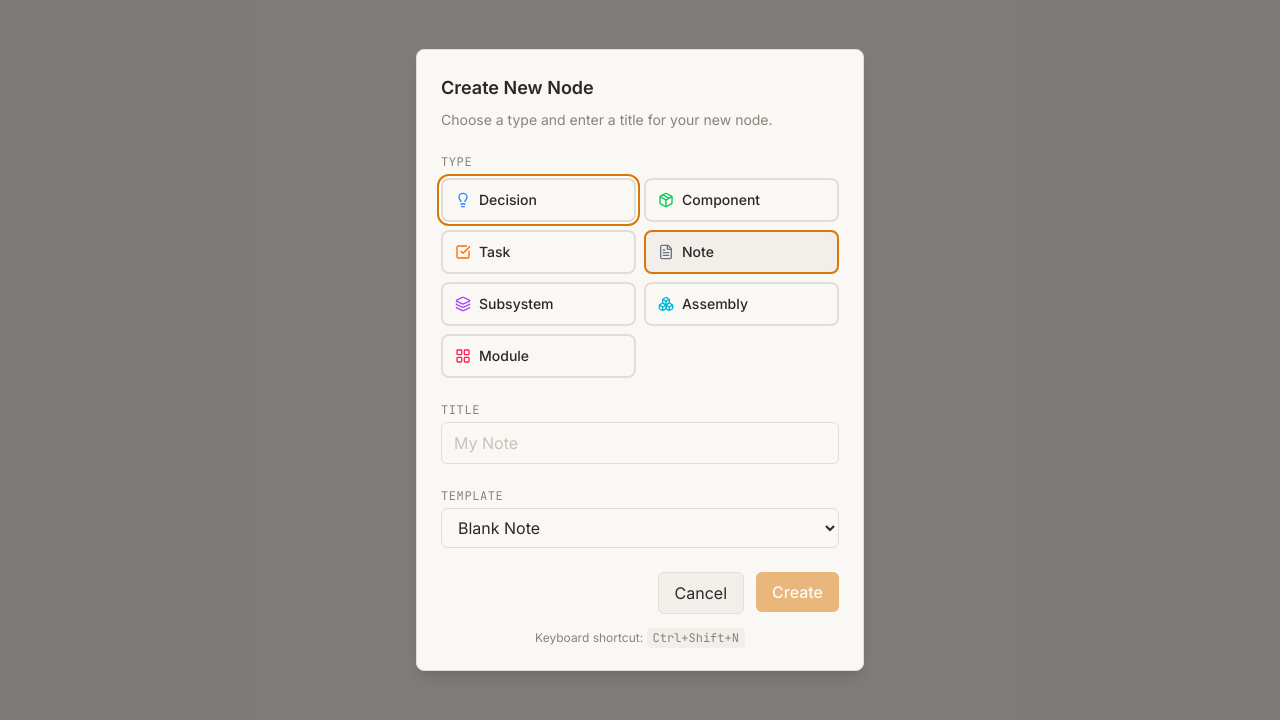
Test: CreateNodeDialog › title input › is required for form submission
Expected: the button "Create" is disabled, [756,572,839,612]
In the field labelled "Title": (640, 443) [441,422,839,464], type "Test"
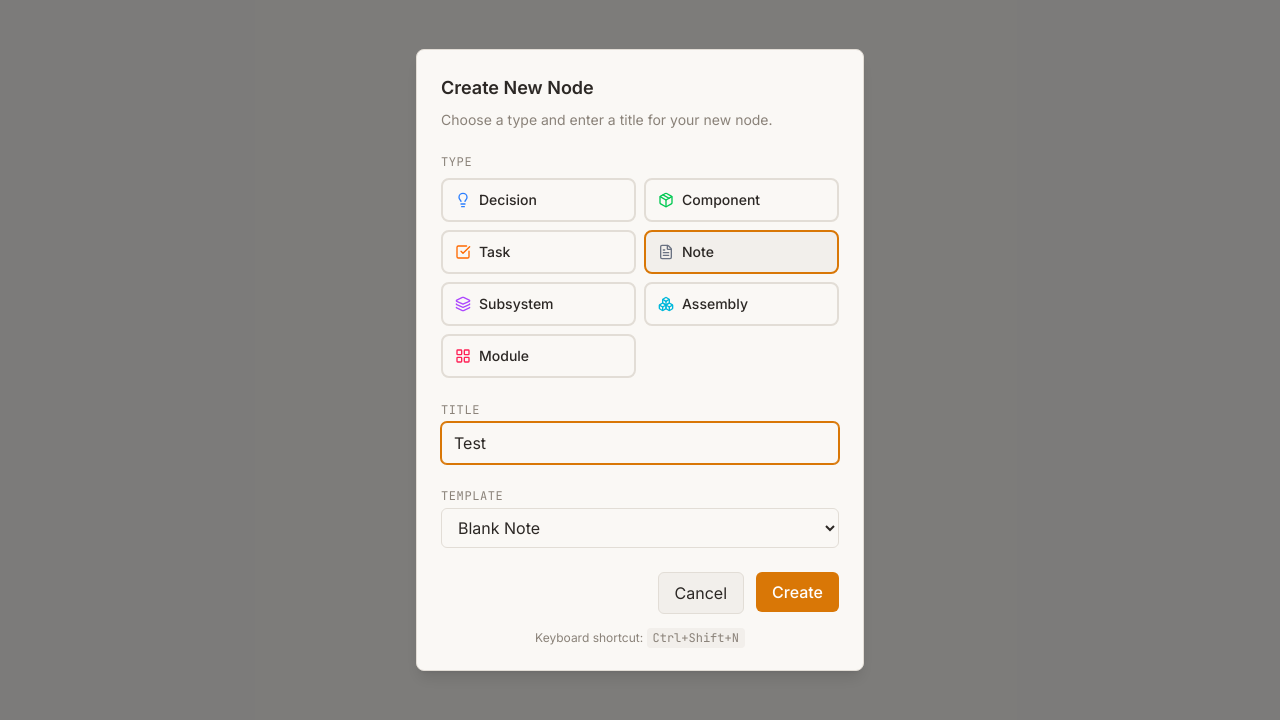
Now the button "Create" is enabled, box [756,572,839,612]
